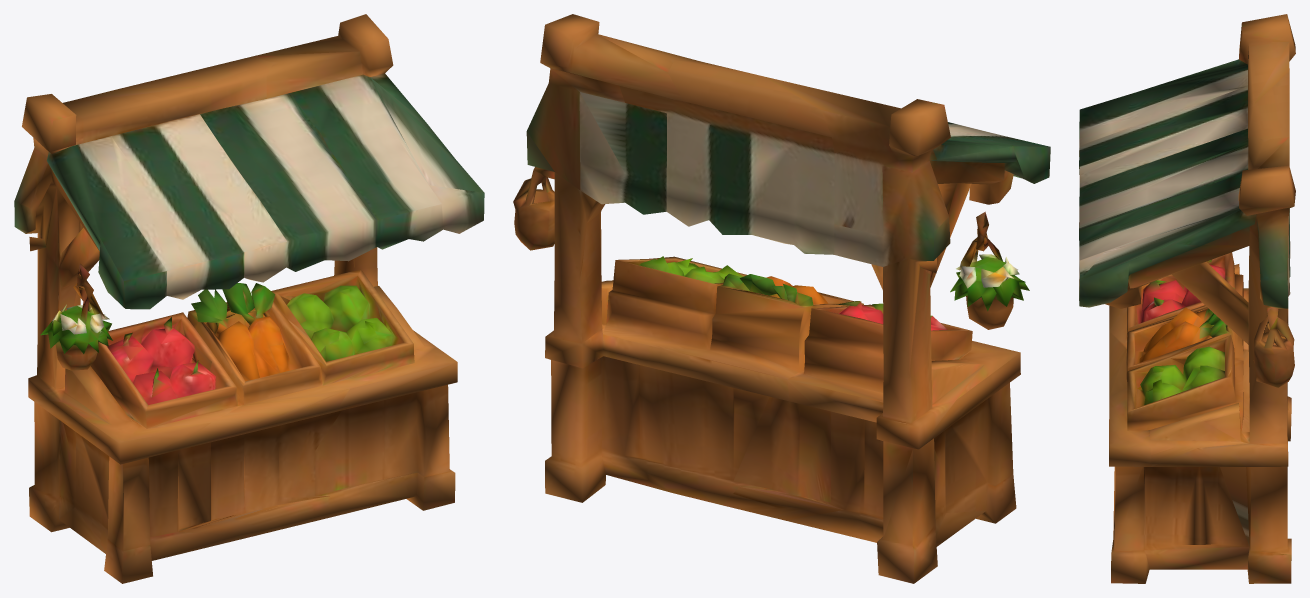
File: stand.glb
3 renders of one model, left to right at view 1: azimuth 30°, elevation 25°; view 2: azimuth 150°, elevation 25°; view 3: azimuth 270°, elevation 25°, orthographic. The views are drawn at different scales.
Visible parts, largest first — view 1: model; view 2: model; view 3: model.
Part boxes in pixels (x1,y1,x2,y2): model: [14, 14, 484, 583]; model: [513, 14, 1050, 583]; model: [1079, 14, 1295, 583].
Bounding box in the file's own units: 1.9 × 1.88 × 0.9036.
Materials: 1 (1 with a texture image).
